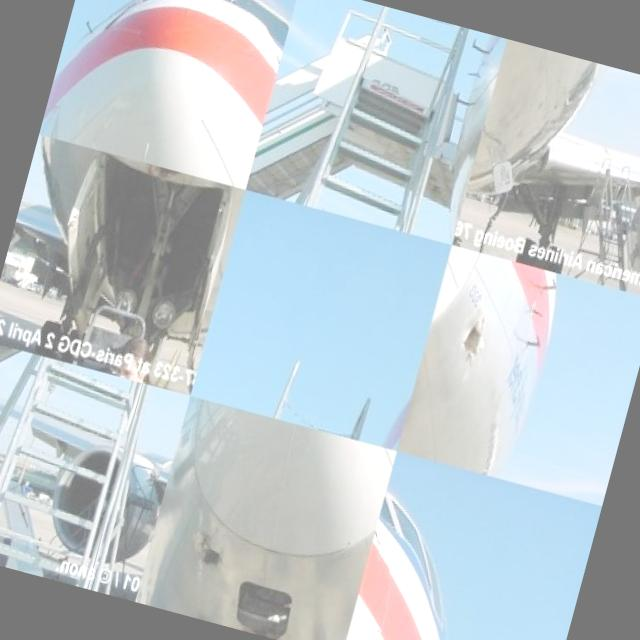dent: (171, 528, 222, 572), (450, 314, 495, 363)
